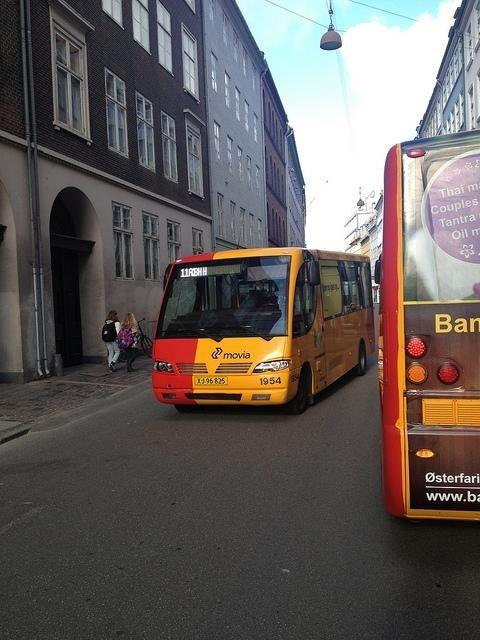bus: (373, 114, 480, 524), (150, 245, 374, 412)
